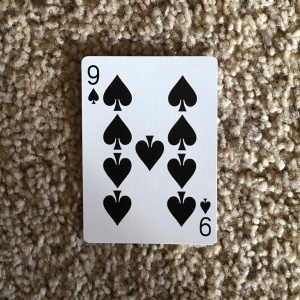card: (80, 54, 219, 246)
